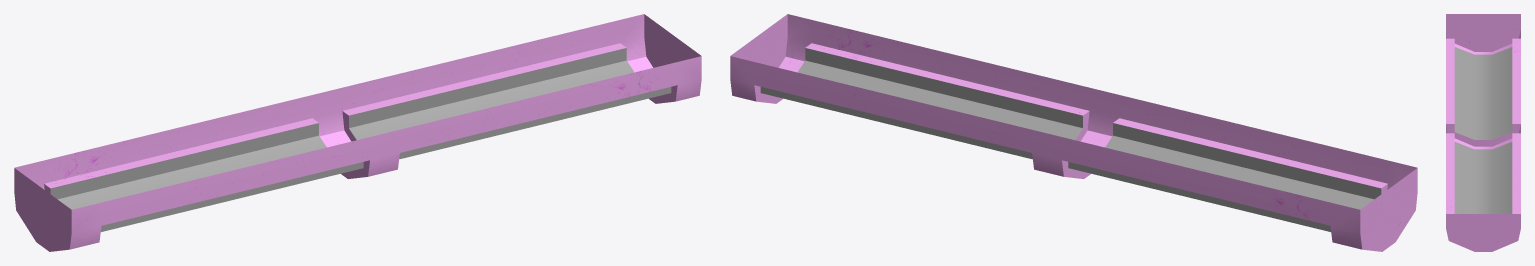
Rendered from Light_02_SM_Low.fbx.
3 views of the same model, side by side, from view 1: azimuth 30°, elevation 25°; view 2: azimuth 150°, elevation 25°; view 3: azimuth 270°, elevation 25° (orthographic). The views are drawn at different scales.
Parts seen in each view (by area): view 1: BarLight_small; view 2: BarLight_small; view 3: BarLight_small.
Boxes of the visible parts, x1,y1,x2,y2 form: BarLight_small: (14,14,701,251); BarLight_small: (730,14,1417,251); BarLight_small: (1446,14,1520,251).
Bounding box in the file's own units: 90.61 × 8.01 × 14.32.
Materials: 2 (1 with a texture image).
